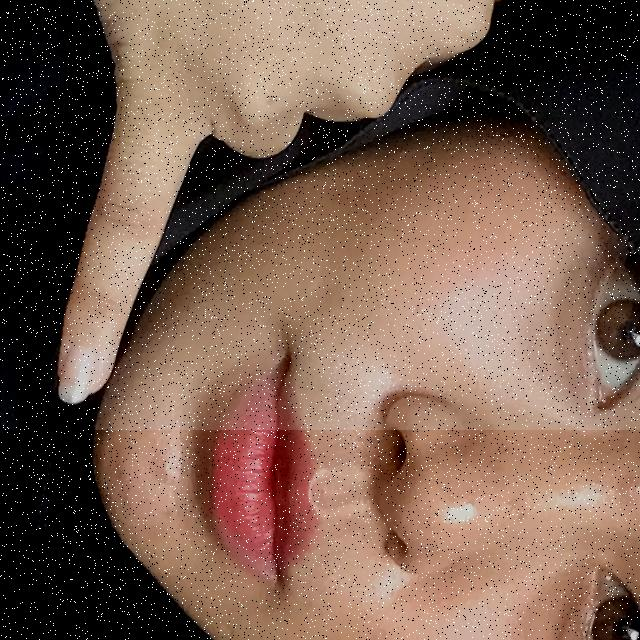telpon: (0, 0, 640, 430)
